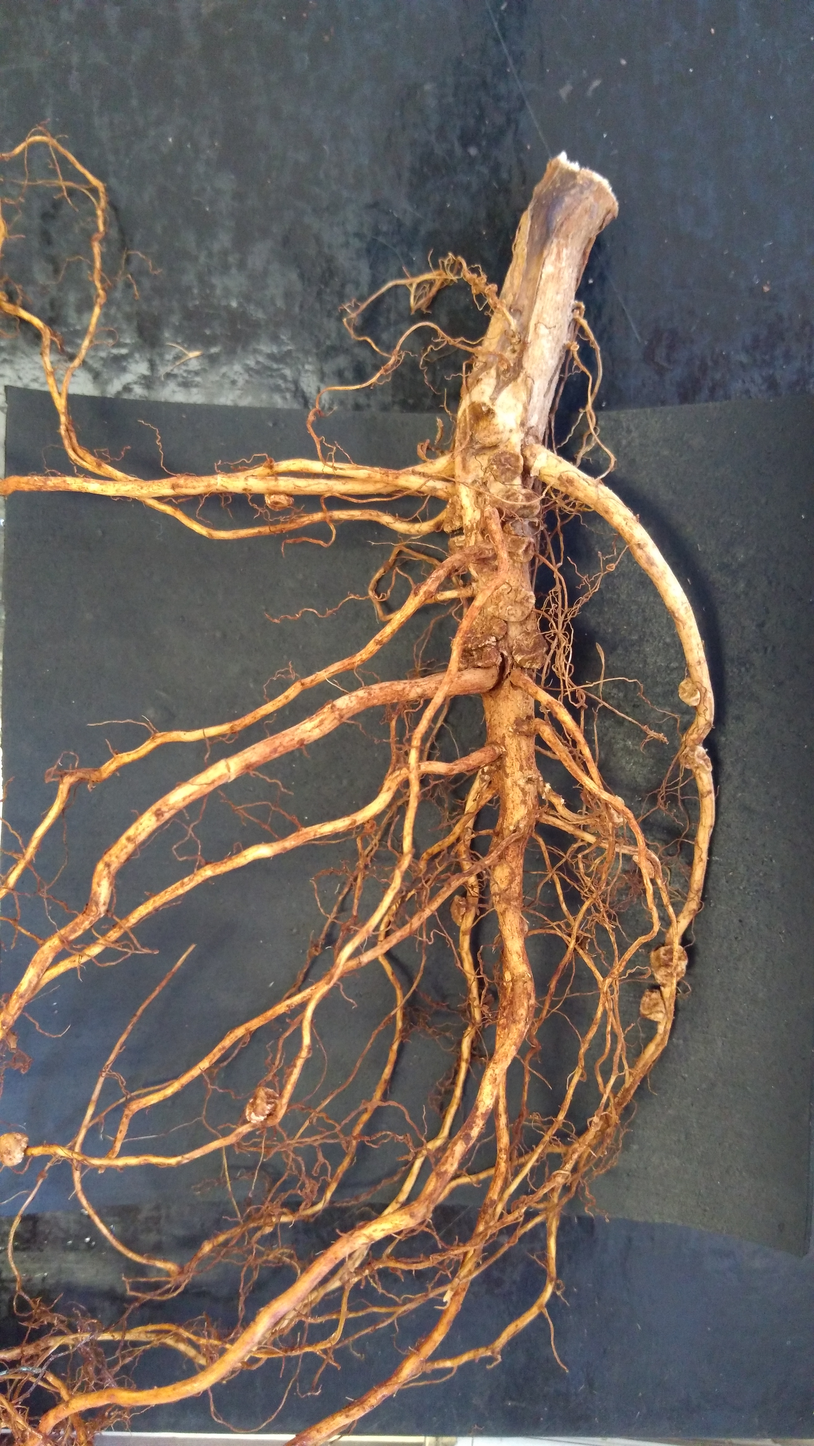nodule: (640, 937, 696, 988), (238, 1080, 282, 1131), (508, 625, 551, 675), (485, 582, 536, 623), (482, 447, 527, 484), (462, 617, 507, 653), (0, 1128, 35, 1169), (636, 985, 669, 1028), (489, 487, 525, 516), (675, 676, 702, 714), (506, 533, 538, 565), (472, 419, 505, 448), (440, 494, 465, 532), (468, 643, 503, 670), (514, 486, 543, 518), (631, 848, 660, 879), (688, 744, 715, 775), (606, 794, 629, 826), (445, 533, 478, 554), (448, 893, 467, 927), (262, 492, 295, 511), (469, 274, 488, 295), (503, 516, 524, 535), (270, 493, 290, 509), (484, 283, 498, 296), (605, 562, 615, 572)
